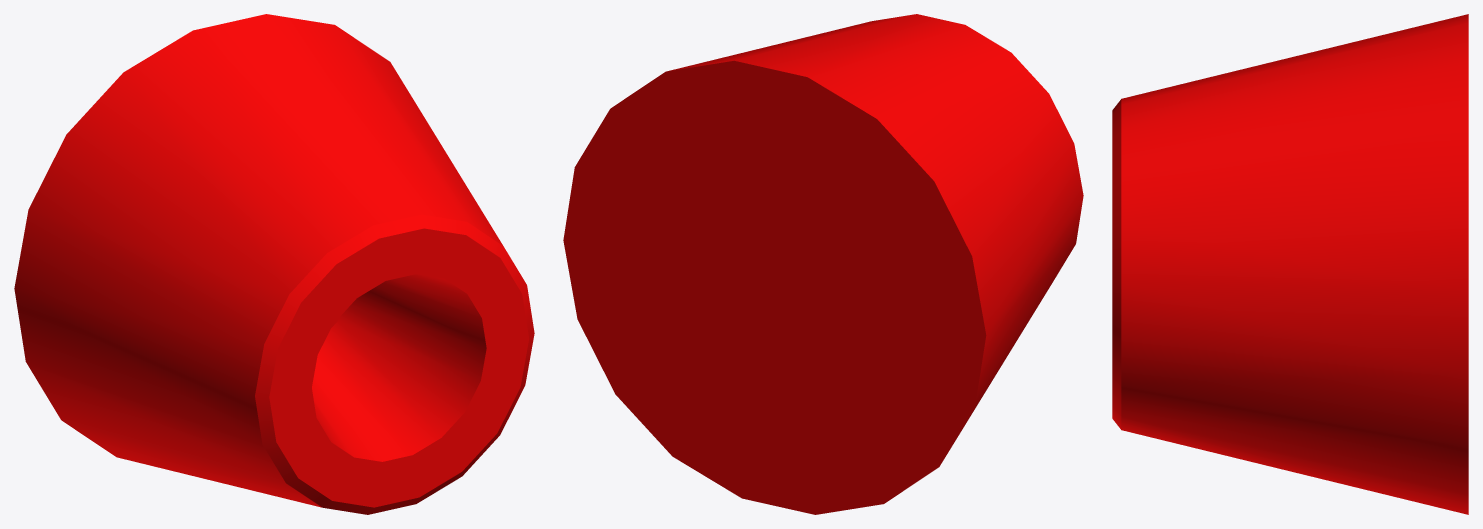
Rendered from Revolver_Bullet.FBX.
3 renders of one model, left to right at view 1: azimuth 30°, elevation 25°; view 2: azimuth 150°, elevation 25°; view 3: azimuth 270°, elevation 25°, orthographic. The views are drawn at different scales.
Parts seen in each view (by area): view 1: Bullet; view 2: Bullet; view 3: Bullet.
Part boxes in pixels (x1,y1,x2,y2): Bullet: [14, 14, 534, 514]; Bullet: [563, 14, 1083, 514]; Bullet: [1112, 14, 1468, 514].
Size of the model in its own units: 0.6826 by 0.6744 by 0.4848.
